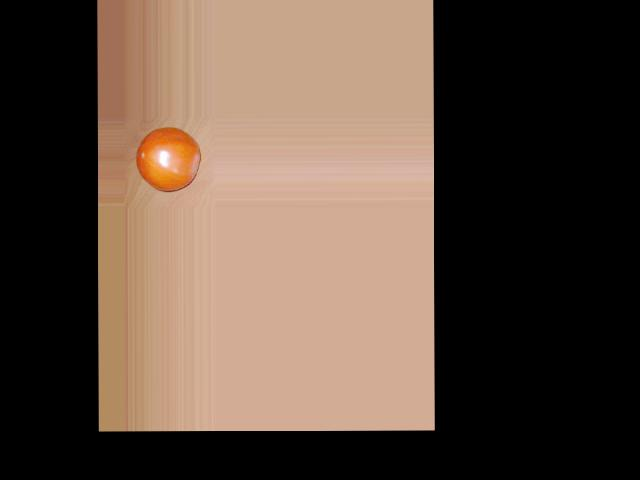tomato: (135, 126, 200, 191)
